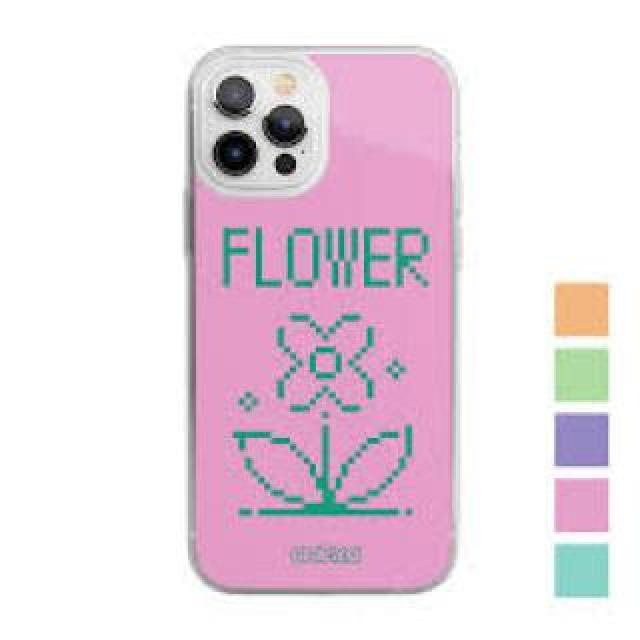smart phone: (175, 24, 487, 618)
